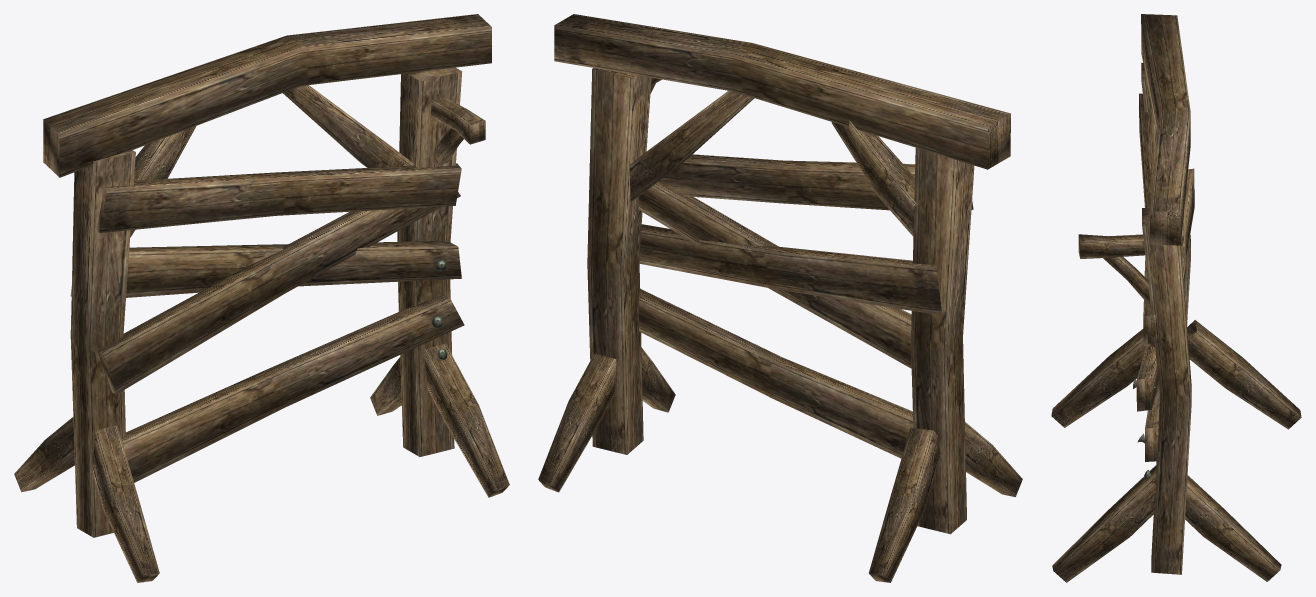
Rendered from S_Build_West065.FBX.
3 renders of one model, left to right at view 1: azimuth 30°, elevation 25°; view 2: azimuth 150°, elevation 25°; view 3: azimuth 270°, elevation 25°, orthographic. The views are drawn at different scales.
Visible parts, largest first — view 1: S_Build_West065; view 2: S_Build_West065; view 3: S_Build_West065.
Part boxes in pixels (x1,y1,x2,y2): S_Build_West065: [14, 14, 509, 582]; S_Build_West065: [538, 14, 1022, 582]; S_Build_West065: [1051, 14, 1301, 582].
Size of the model in its own units: 380 by 205 by 368.
